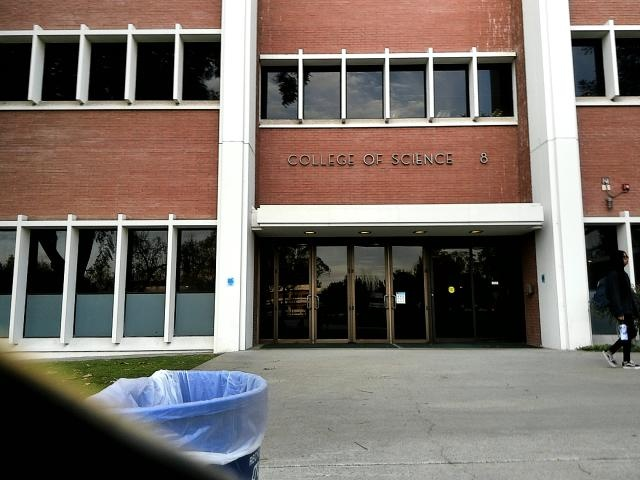trashcan_open: (76, 374, 270, 480)
